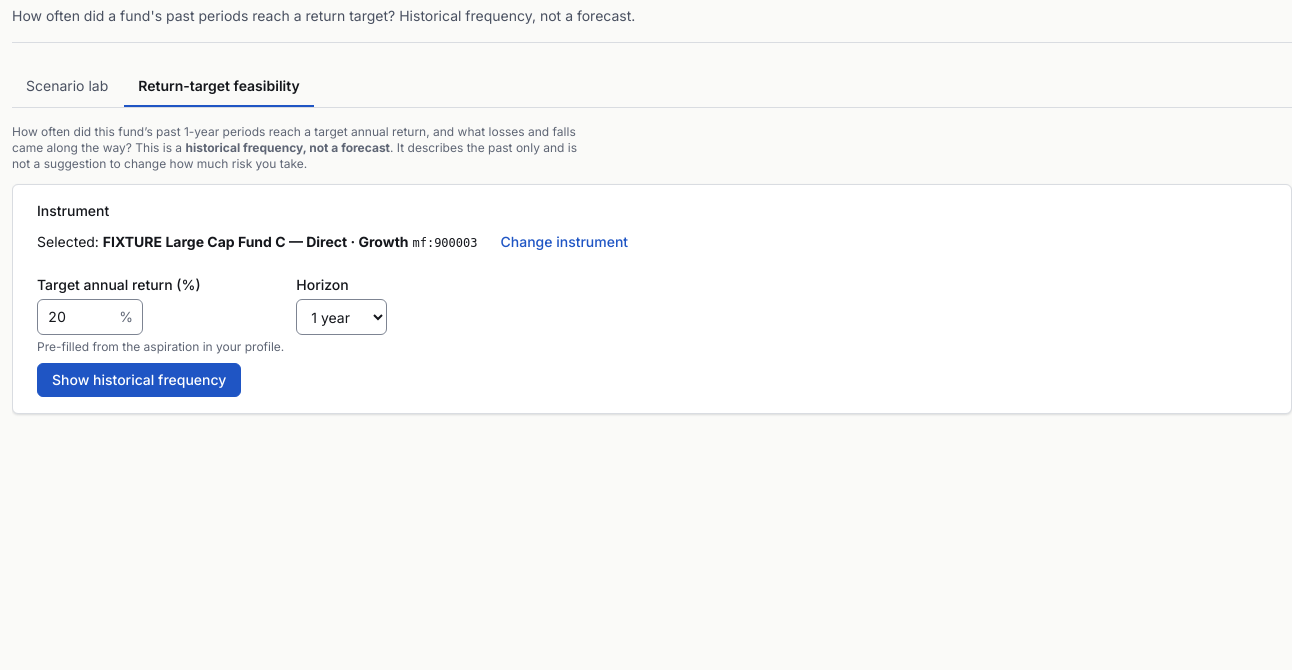
Test: Return-target feasibility › the DotPlot shows the engine's hit count (not one the UI counted)
Expected: the field labelled "Target annual return (%)" holds "20", [37,299,143,335]
What coordinates should you click on to do the following:
click the button "Show historical frequency"
I would click on:
 (139, 380)
Its box is [37,363,241,397].
(page scrolled)
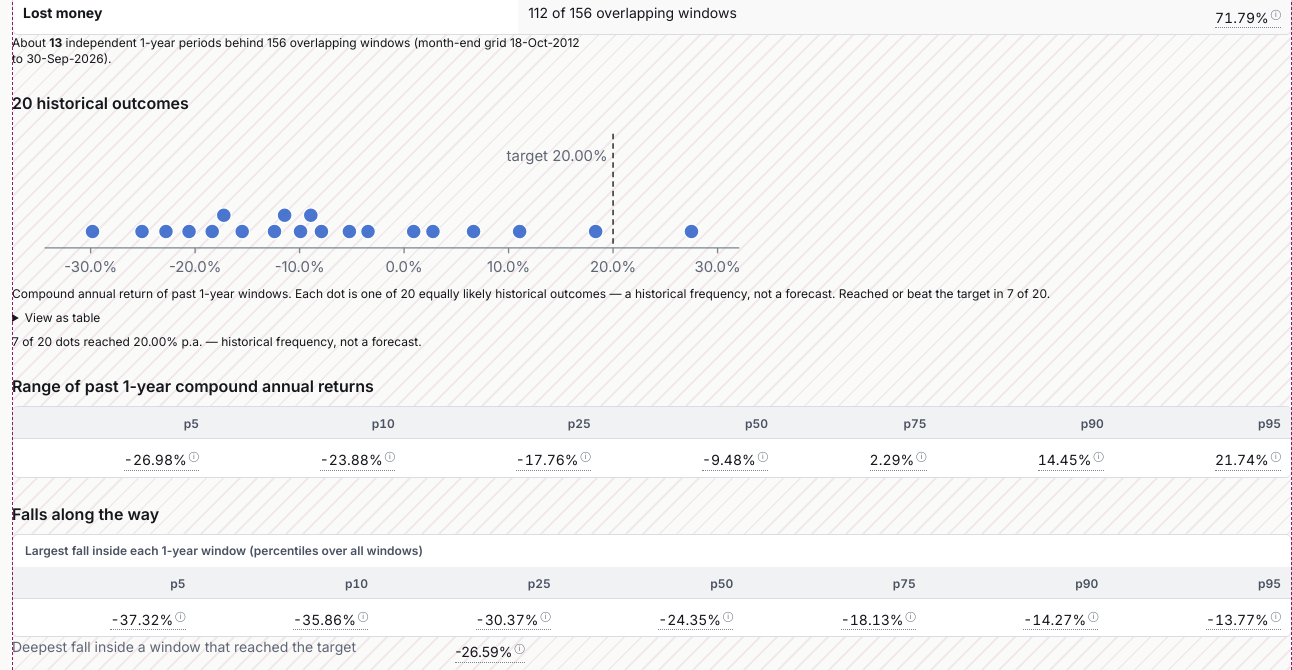
Now the text "Reached or beat the target in 7 of 20." is shown, box [836,286,1050,301]
Now the text "7 of 20 dots reached 20.00% p.a." is shown, box [12,334,202,349]
